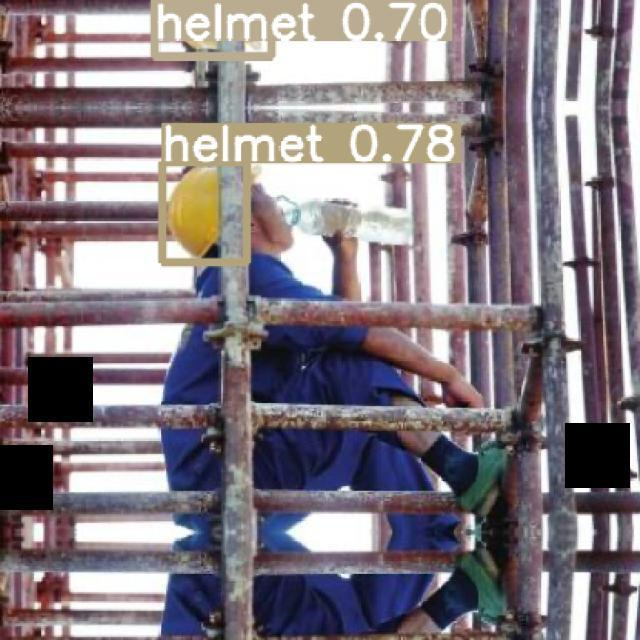helmet: (167, 163, 262, 258)
